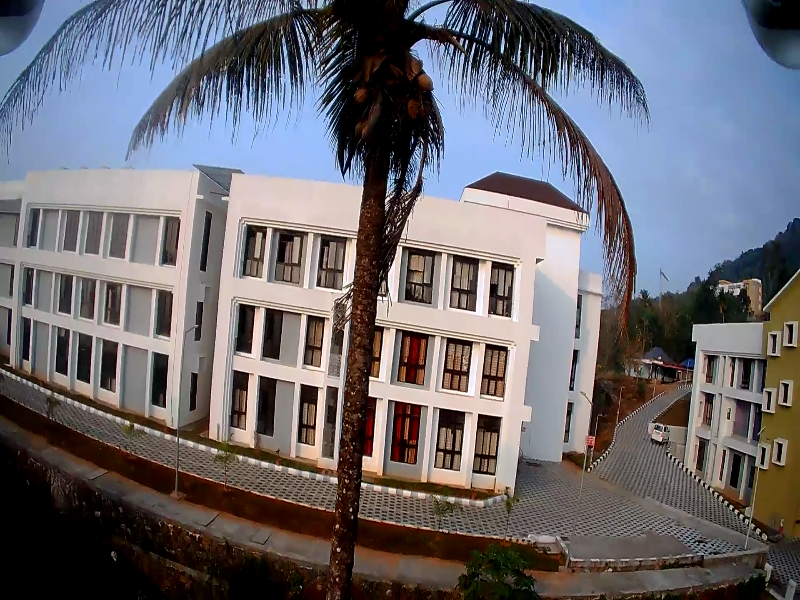coconut: (407, 100, 425, 122), (414, 75, 435, 93), (360, 114, 375, 134), (353, 86, 368, 104), (351, 120, 365, 132)
